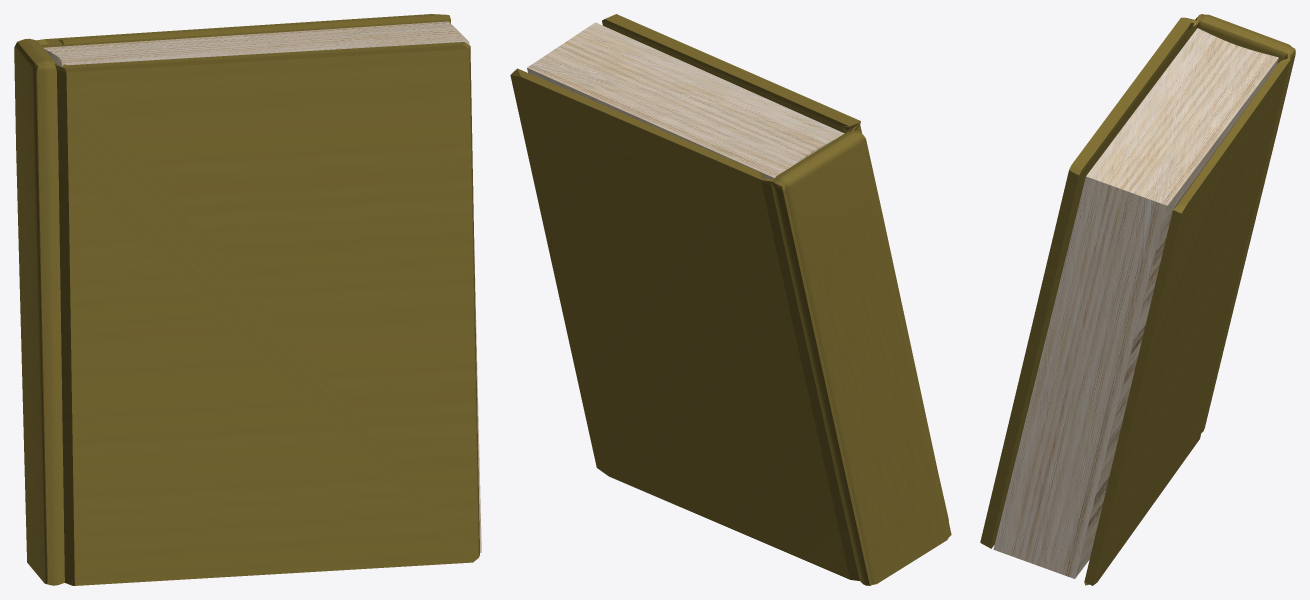
The model's file is Books_Yellow.fbx.
3 renders of one model, left to right at view 1: azimuth 30°, elevation 25°; view 2: azimuth 150°, elevation 25°; view 3: azimuth 270°, elevation 25°, orthographic. The views are drawn at different scales.
Parts seen in each view (by area): view 1: yellow_closed_book:pCube2; view 2: yellow_closed_book:pCube2; view 3: yellow_closed_book:pCube2.
Part boxes in pixels (x1,y1,x2,y2): yellow_closed_book:pCube2: [14, 14, 481, 585]; yellow_closed_book:pCube2: [510, 14, 951, 585]; yellow_closed_book:pCube2: [980, 14, 1295, 585].
Size of the model in its own units: 3.53 by 3.85 by 2.56.
Materials: 1 (1 with a texture image).
